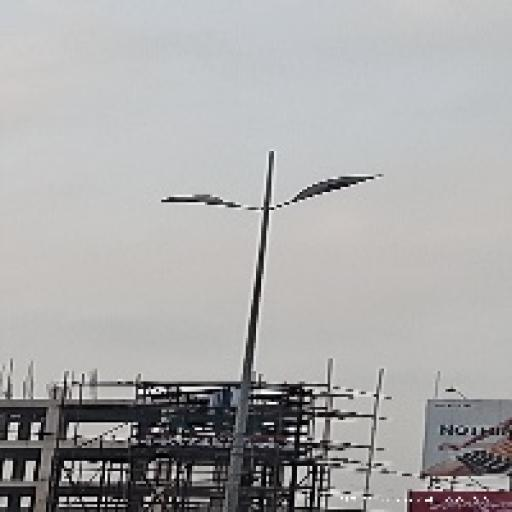Not Working: (282, 166, 386, 211), (153, 186, 251, 222)
